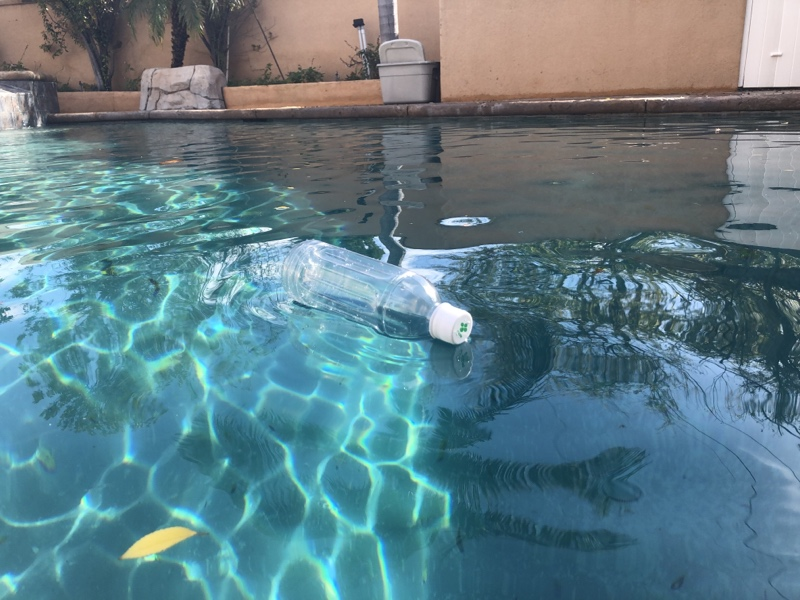Plastic Bottle: (281, 237, 477, 346)
